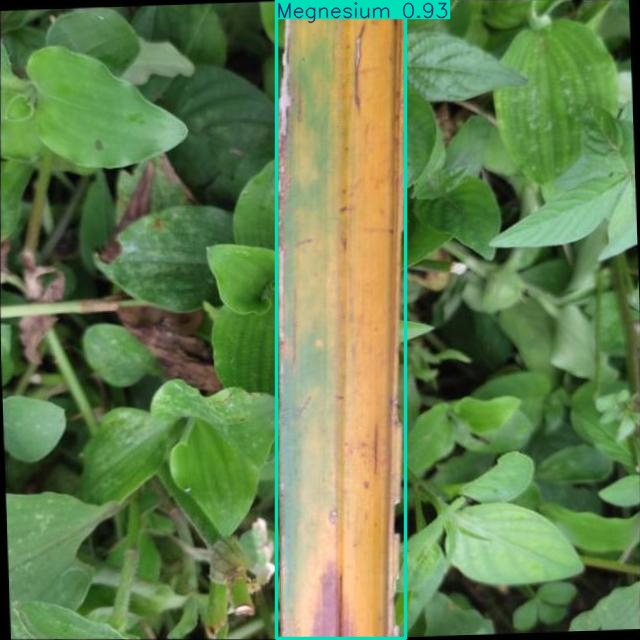Megnesium: (277, 0, 406, 639)
